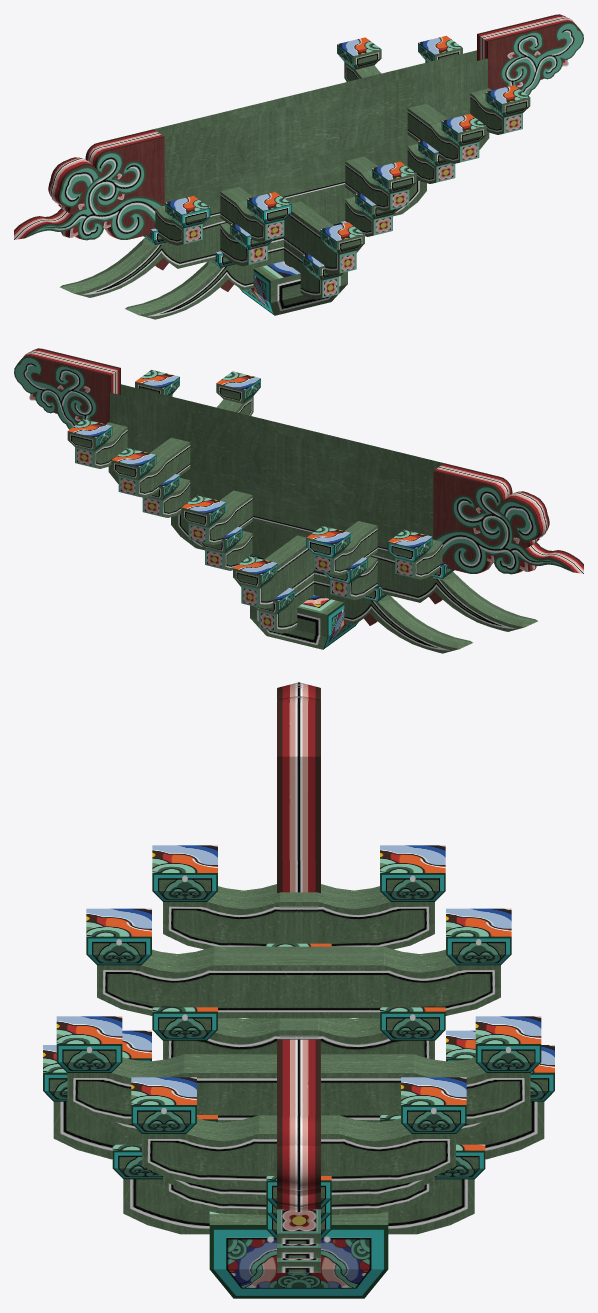
The model's file is SM_Gongpo02B.fbx.
3 renders of one model, top to bottom at view 1: azimuth 30°, elevation 25°; view 2: azimuth 150°, elevation 25°; view 3: azimuth 270°, elevation 25°, orthographic. The views are drawn at different scales.
Visible parts, largest first — view 1: SM_Gongpo02B; view 2: SM_Gongpo02B; view 3: SM_Gongpo02B.
Boxes of the visible parts, box(x1,y1,x2,y2) form: SM_Gongpo02B: box(14, 14, 583, 319); SM_Gongpo02B: box(14, 348, 583, 653); SM_Gongpo02B: box(43, 682, 554, 1298).
Size of the model in its own units: 322 by 126 by 115.
